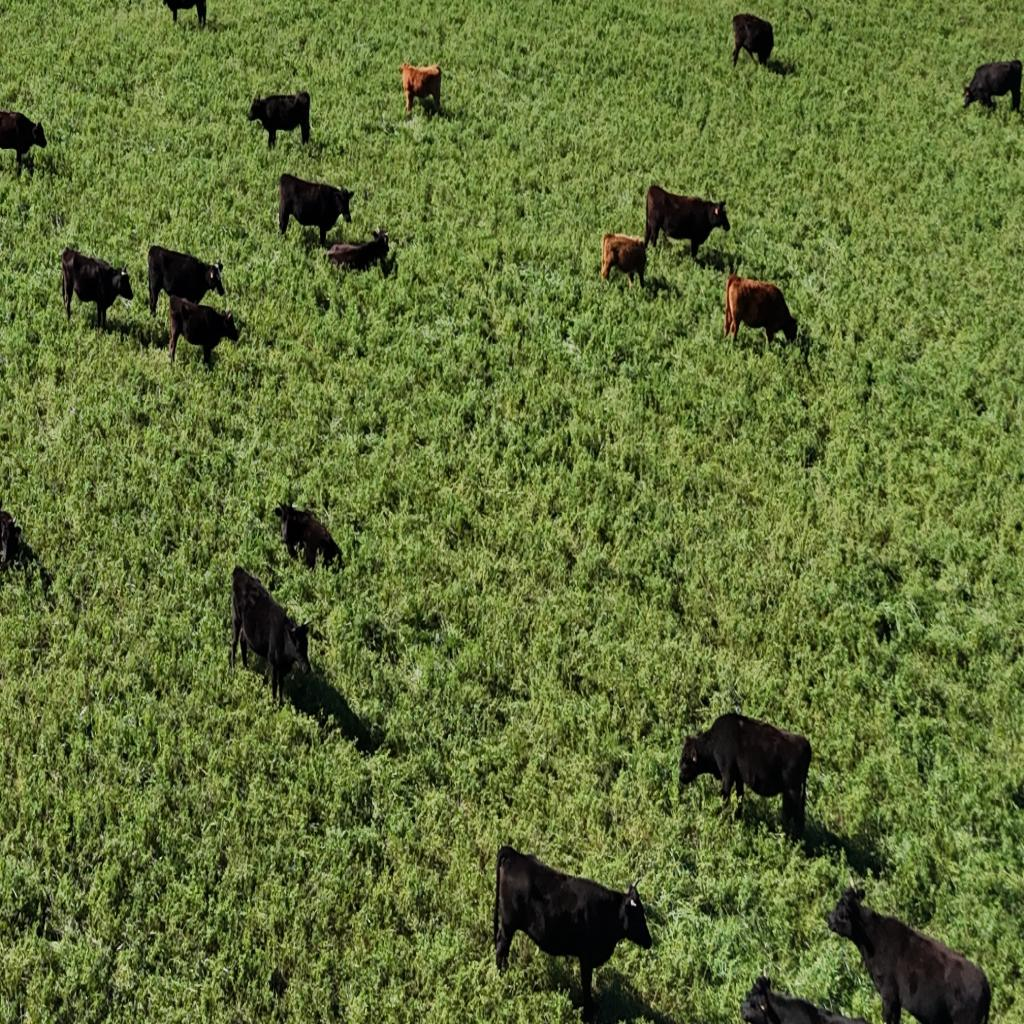cow: (496, 848, 652, 1020), (825, 879, 990, 1024), (678, 711, 809, 834), (230, 565, 314, 706), (643, 186, 728, 265), (740, 976, 879, 1024), (62, 247, 134, 332), (146, 244, 226, 319), (722, 271, 798, 348), (276, 171, 355, 245), (165, 291, 240, 366), (276, 502, 344, 574), (248, 91, 311, 150), (962, 59, 1024, 117), (0, 110, 47, 176), (326, 229, 390, 276), (600, 232, 646, 290), (731, 12, 774, 69), (400, 61, 443, 117), (161, 0, 207, 30), (0, 507, 22, 569)
